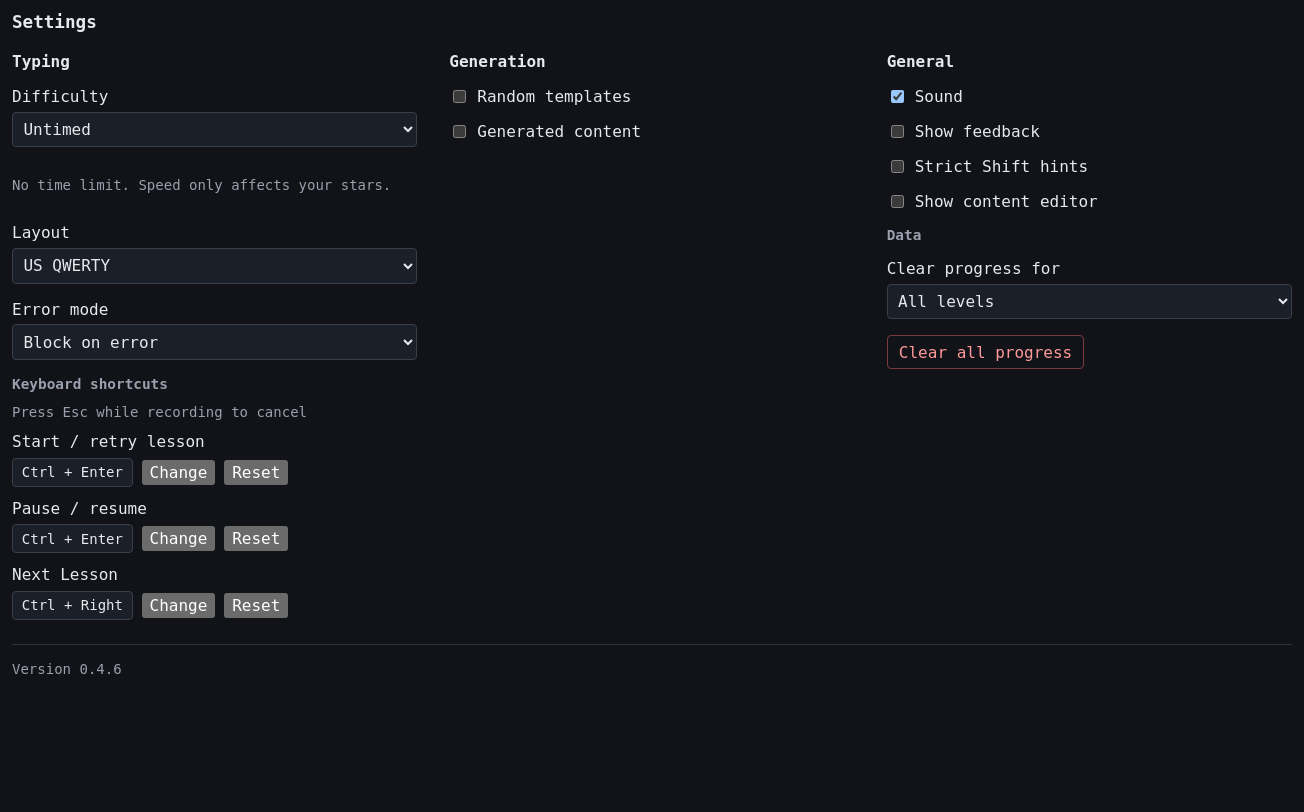
SettingsPanel shortcuts › ignores modifier-only keys while recording
Click the button "Change" below "Start / retry lesson" at [178, 472], box [142, 460, 215, 485]
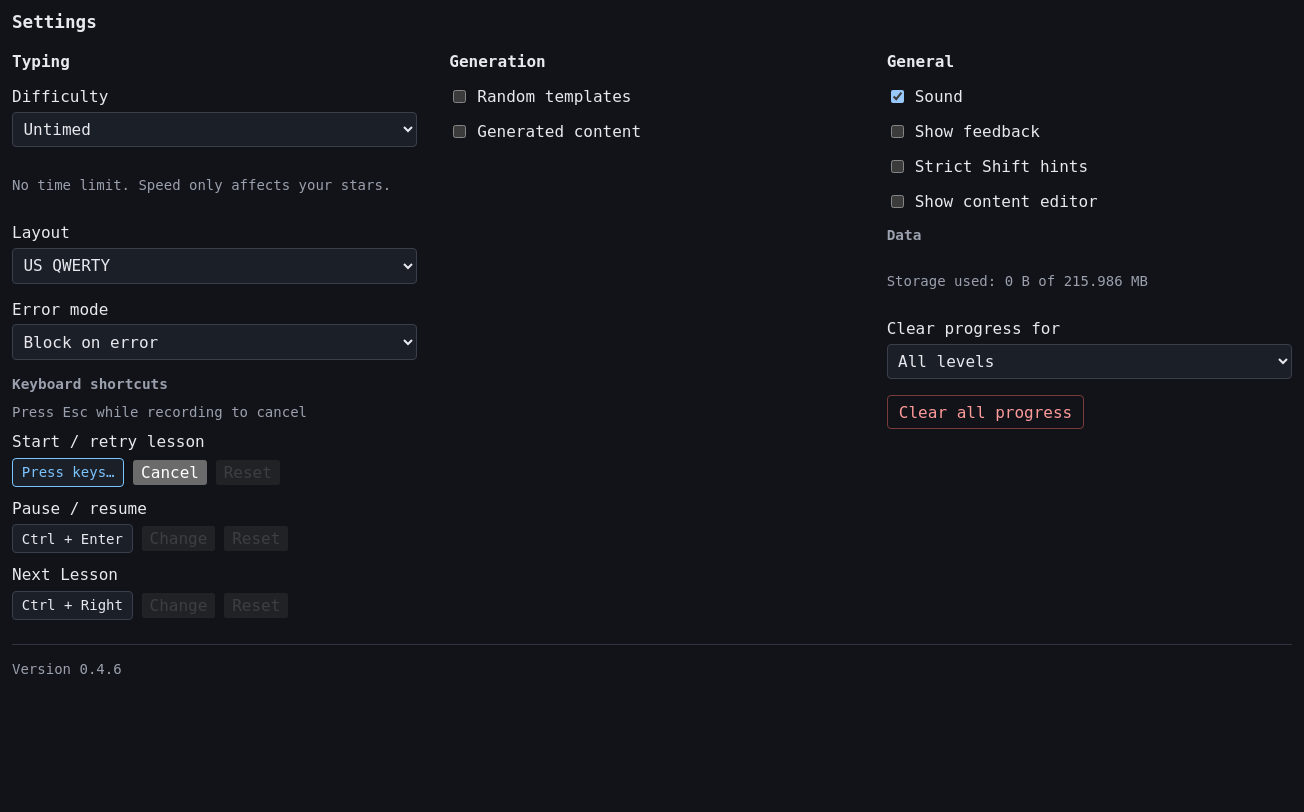
Check: the text with class "shortcut-keys" reads "Press keys…", box [22, 464, 114, 480]
